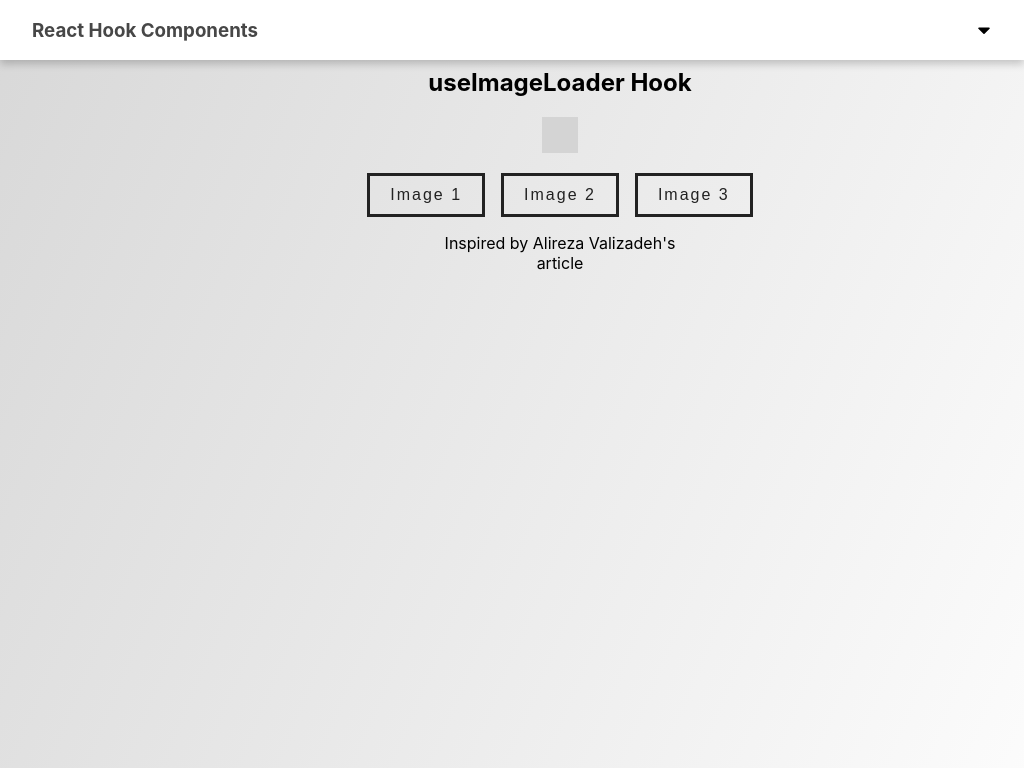
Menu › should open the menu when the Navbar button is clicked
Click the list item with class "nav-item".
click(984, 30)  # box x1=964 y1=10 x2=1004 y2=50
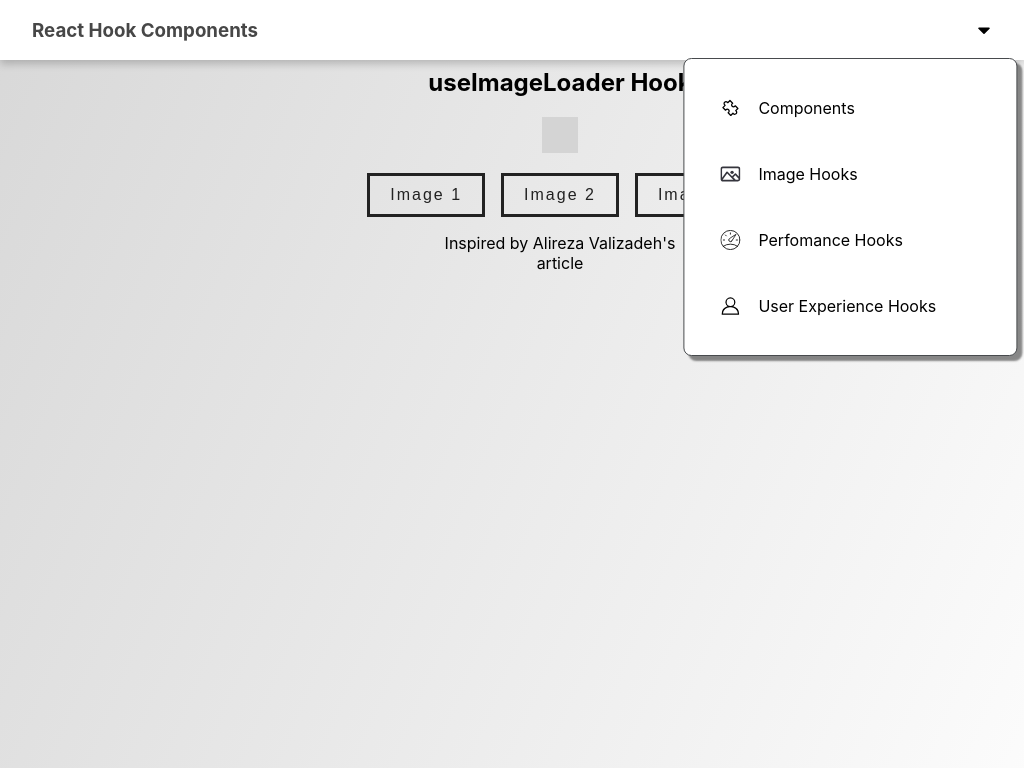
Now the number of elements with class "dropdown" is 1, box x1=683 y1=58 x2=1017 y2=356
